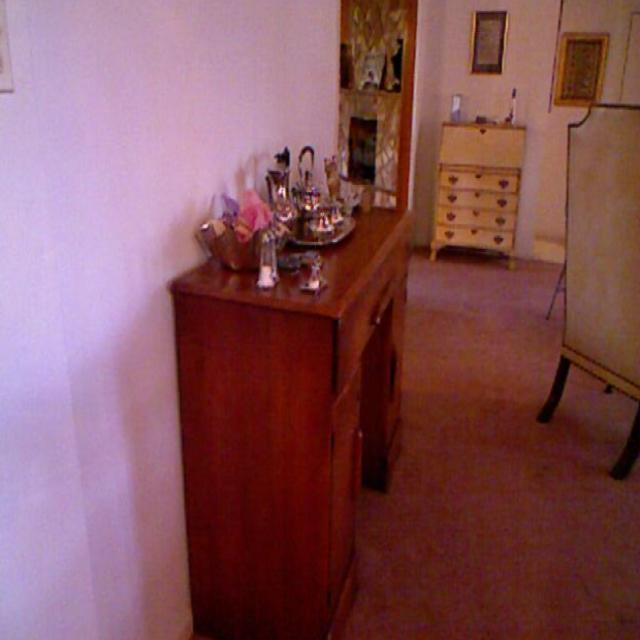obstacle: (175, 116, 414, 637), (544, 88, 640, 468), (425, 87, 528, 268)
